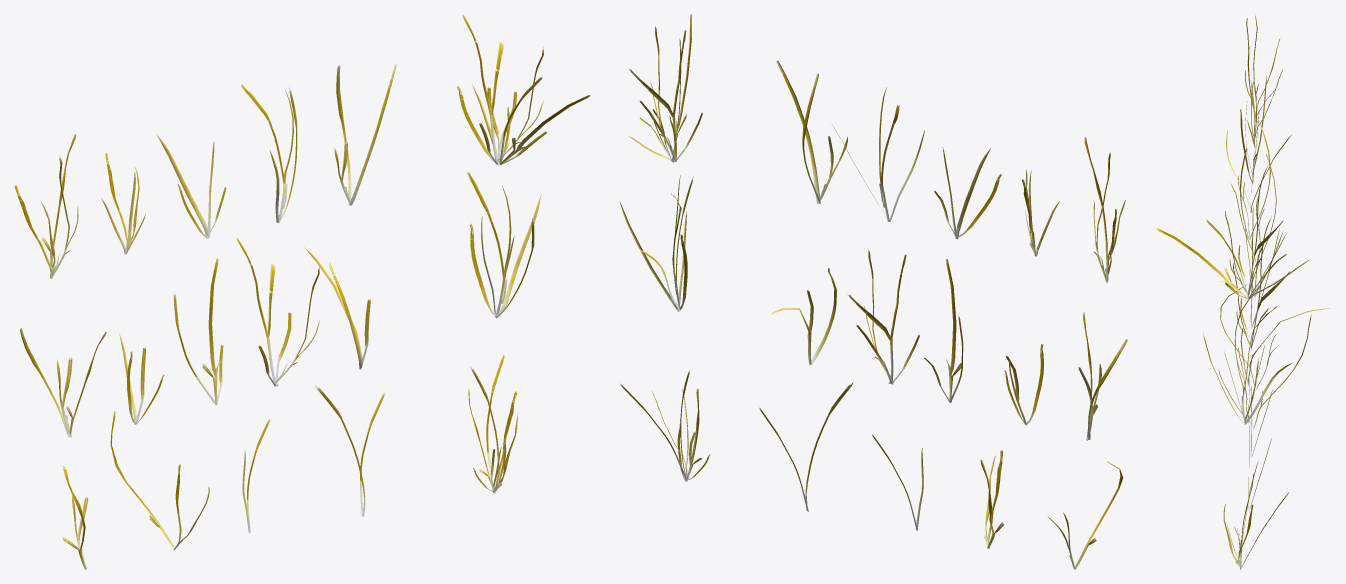
Rendered from Grass_Brown_Strands.dae.
3 renders of one model, left to right at view 1: azimuth 30°, elevation 25°; view 2: azimuth 150°, elevation 25°; view 3: azimuth 270°, elevation 25°, orthographic. The views are drawn at different scales.
Parts seen in each view (by area): view 1: Grass_Brown_Strands.015, Grass_Brown_Strands, Grass_Brown_Strands.016, Grass_Brown_Strands.005, Grass_Brown_Strands.012, Grass_Brown_Strands.003, Grass_Brown_Strands.006, Grass_Brown_Strands.002, Grass_Brown_Strands.013, Grass_Brown_Strands.014, Grass_Brown_Strands.008, Grass_Brown_Strands.011 (+2 smaller); view 2: Grass_Brown_Strands.015, Grass_Brown_Strands, Grass_Brown_Strands.003, Grass_Brown_Strands.016, Grass_Brown_Strands.005, Grass_Brown_Strands.012, Grass_Brown_Strands.014, Grass_Brown_Strands.002, Grass_Brown_Strands.006, Grass_Brown_Strands.013, Grass_Brown_Strands.004, Grass_Brown_Strands.001 (+1 smaller); view 3: Grass_Brown_Strands.015, Grass_Brown_Strands, Grass_Brown_Strands.016, Grass_Brown_Strands.005, Grass_Brown_Strands.012, Grass_Brown_Strands.003, Grass_Brown_Strands.014, Grass_Brown_Strands.006, Grass_Brown_Strands.011, Grass_Brown_Strands.004, Grass_Brown_Strands.013, Grass_Brown_Strands.008 (+2 smaller).
Part boxes in pixels (x1,y1,x2,y2): Grass_Brown_Strands.015: (456, 14, 590, 165); Grass_Brown_Strands: (466, 171, 541, 318); Grass_Brown_Strands.016: (468, 352, 517, 493); Grass_Brown_Strands.005: (236, 237, 320, 386); Grass_Brown_Strands.012: (14, 134, 78, 278); Grass_Brown_Strands.003: (334, 64, 396, 205); Grass_Brown_Strands.006: (239, 84, 297, 222); Grass_Brown_Strands.002: (173, 258, 223, 405); Grass_Brown_Strands.013: (20, 328, 106, 437); Grass_Brown_Strands.014: (157, 135, 226, 238); Grass_Brown_Strands.008: (101, 152, 145, 254); Grass_Brown_Strands.011: (304, 247, 370, 369); Grass_Brown_Strands.015: (628, 14, 702, 163); Grass_Brown_Strands: (619, 175, 693, 311); Grass_Brown_Strands.003: (776, 60, 847, 203); Grass_Brown_Strands.016: (620, 370, 710, 481); Grass_Brown_Strands.005: (847, 249, 919, 384); Grass_Brown_Strands.012: (1084, 137, 1125, 282); Grass_Brown_Strands.014: (934, 147, 1001, 239); Grass_Brown_Strands.002: (924, 259, 963, 402); Grass_Brown_Strands.006: (831, 87, 924, 221); Grass_Brown_Strands.013: (1078, 312, 1127, 440); Grass_Brown_Strands.004: (980, 450, 1004, 549); Grass_Brown_Strands.001: (1004, 344, 1043, 425); Grass_Brown_Strands.015: (1156, 166, 1308, 299); Grass_Brown_Strands: (1203, 306, 1291, 424); Grass_Brown_Strands.016: (1223, 461, 1288, 569); Grass_Brown_Strands.005: (1233, 216, 1290, 350); Grass_Brown_Strands.012: (1245, 14, 1280, 123); Grass_Brown_Strands.003: (1238, 123, 1270, 241); Grass_Brown_Strands.014: (1240, 75, 1266, 183); Grass_Brown_Strands.006: (1226, 89, 1291, 212); Grass_Brown_Strands.011: (1234, 285, 1329, 385); Grass_Brown_Strands.004: (1218, 315, 1311, 428); Grass_Brown_Strands.013: (1230, 153, 1276, 270); Grass_Brown_Strands.008: (1247, 69, 1282, 147).
Size of the model in its own units: 0.3127 by 0.1083 by 0.2723.
Materials: 1 (1 with a texture image).
